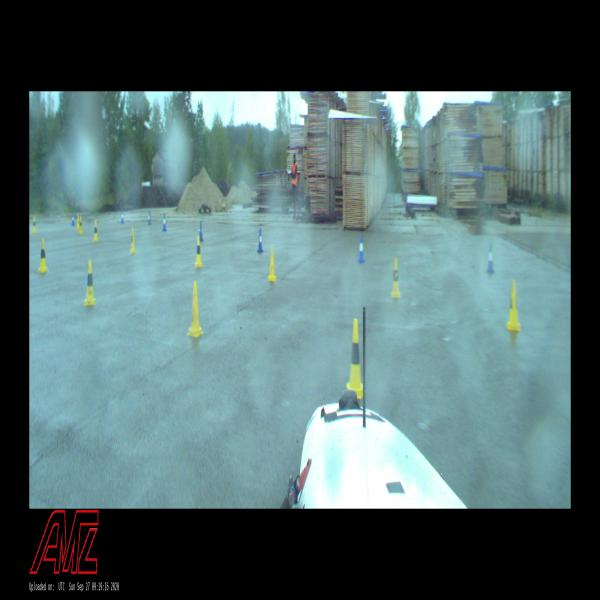blue_cone: (486, 242, 495, 273), (358, 235, 365, 263), (258, 229, 264, 252), (198, 220, 204, 242), (162, 214, 167, 231), (72, 211, 76, 226), (148, 211, 151, 225)
yellow_cone: (345, 318, 366, 400), (186, 280, 204, 340), (507, 278, 521, 330), (84, 258, 96, 306), (391, 258, 401, 298), (267, 246, 277, 282), (38, 238, 48, 272), (194, 237, 202, 267), (130, 228, 136, 254), (92, 220, 99, 242), (79, 215, 83, 234), (33, 215, 37, 233), (76, 214, 80, 230)
